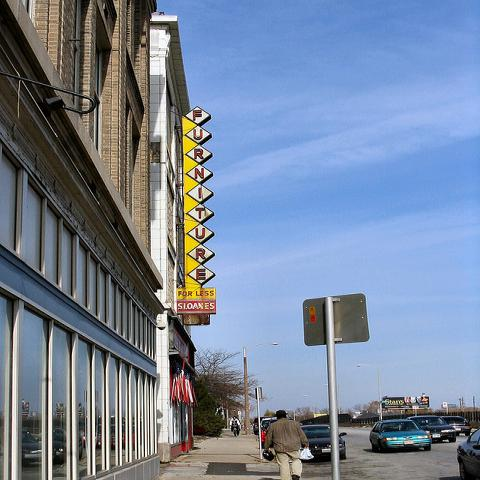car: (369, 419, 432, 451), (300, 424, 348, 460), (406, 416, 456, 442), (456, 428, 479, 480), (439, 416, 473, 436), (252, 416, 272, 434), (260, 418, 278, 435)
